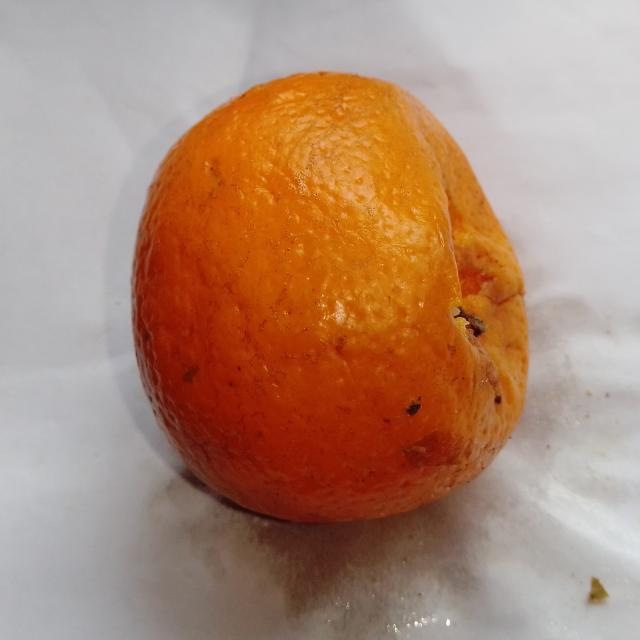orange: (133, 73, 527, 521)
